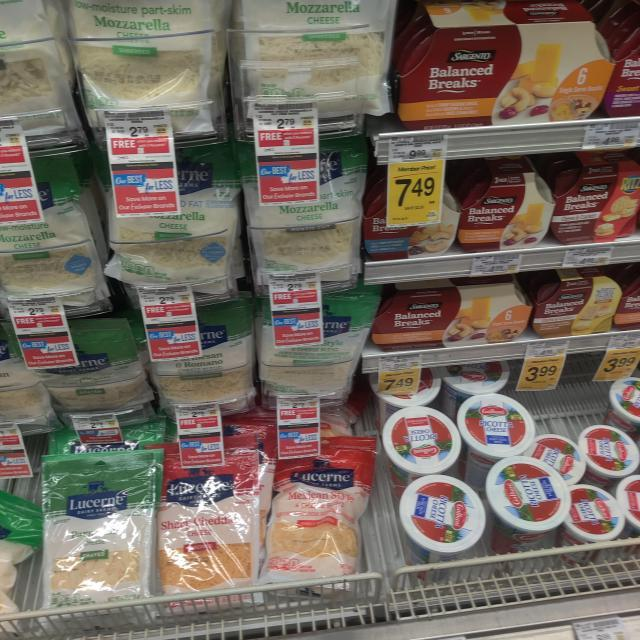Cheese: (385, 15, 625, 133), (227, 0, 401, 131), (355, 162, 565, 268), (64, 0, 217, 142), (33, 459, 159, 625), (265, 431, 383, 601), (161, 455, 274, 608), (240, 156, 368, 287), (253, 273, 365, 409), (99, 192, 247, 294), (144, 291, 258, 413), (39, 316, 157, 421)
